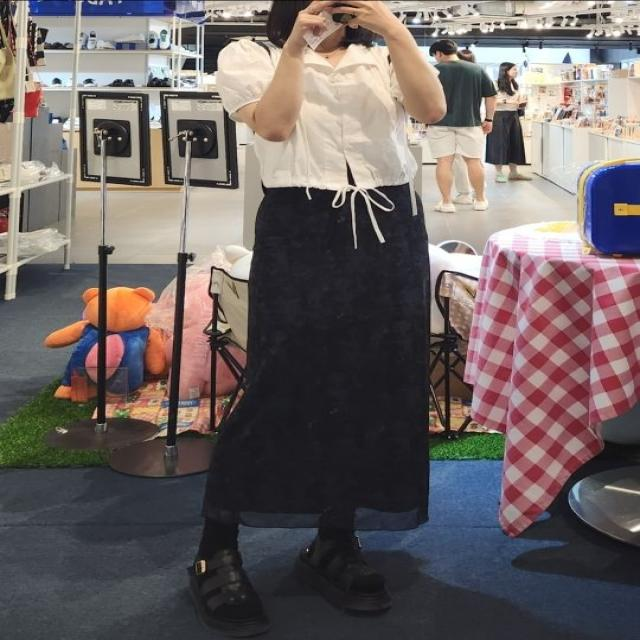shortsleeve: (217, 34, 436, 188)
skirt: (200, 183, 436, 533)
